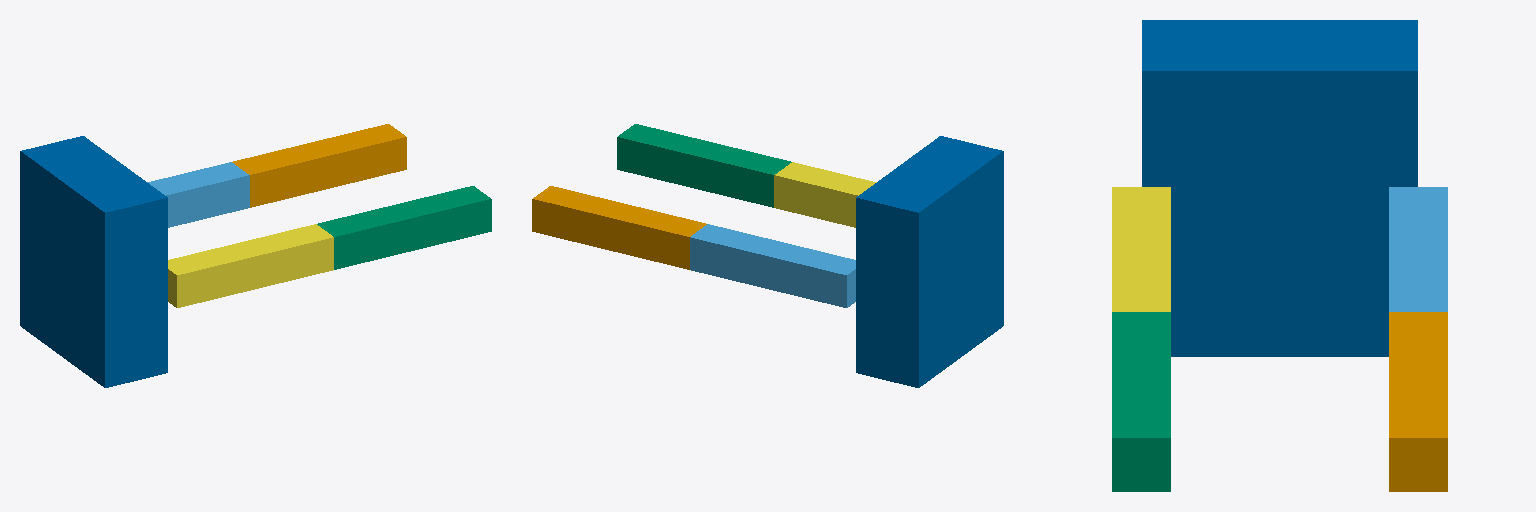
URDF robot description (arms):
<?xml version="1.0"?>
<robot name="arms">
	<link name = "left_forearm">
		<visual>
			<geometry>
				<box size="0.15  0.03  0.03"/>
			</geometry>
			<origin rpy="0 0 0" xyz="0.075 0 0"/>
		</visual>
	</link>
	<link name = "left_backarm">
		<visual>
			<geometry>
				<box size="0.15  0.03  0.03"/>
			</geometry>
			<origin rpy="0 0 0" xyz="0.075 0 0"/>
		</visual>
	</link>
	<link name = "right_forearm">
		<visual>
			<geometry>
				<box size="0.15  0.03  0.03"/>
			</geometry>
			<origin rpy="0 0 0" xyz="0.075  0  0"/>
		</visual>
	</link>
	<link name = "right_backarm">
		<visual>
			<geometry>
				<box size="0.15  0.03  0.03"/>
			</geometry>
			<origin rpy="0 0 0" xyz="0.075 0 0"/>
		</visual>
	</link>
	<link name = "base_link">
		<visual>
			<geometry>
				<box size="0.06  0.14  0.16"/>
			</geometry>
			<origin rpy="0 0 0" xyz="-0.03  0  0"/>
		</visual>
	</link>
	<joint name="right_shoulder" type="revolute">
		<axis xyz="0 0 1"/>
		<limit effort="1000.0" lower="-0.6" upper="0.6" velocity="0.5"/>
		<parent link="base_link"/>
		<child link="right_backarm"/>
		<origin xyz="0 -0.07 0"/>
	</joint>
	<joint name="left_shoulder" type="revolute">
		<axis xyz="0 0 1"/>
		<limit effort="1000.0" lower="-0.6" upper="0.6" velocity="0.5"/>
		<parent link="base_link"/>
		<child link="left_backarm"/>
		<origin xyz="0 0.07 0"/>
	</joint>
	<joint name="right_elbow" type="revolute">
		<axis xyz="0 0 1"/>
		<limit effort="1000.0" lower="-0.6" upper="0.6" velocity="0.5"/>
		<parent link="right_backarm"/>
		<child link="right_forearm"/>
		<origin xyz="0.15 0 0"/>
	</joint>
	<joint name="left_elbow" type="revolute">
		<axis xyz="0 0 1"/>
		<limit effort="1000.0" lower="-0.6" upper="0.6" velocity="0.5"/>
		<parent link="left_backarm"/>
		<child link="left_forearm"/>
		<origin xyz="0.15 0 0"/>
	</joint>
</robot>

--- What the picture shows (computed from the rendered views, not written in the file) ---
3 views of the same robot in one strip: view 1: azimuth 30°, elevation 25°; view 2: azimuth 150°, elevation 25°; view 3: azimuth 270°, elevation 25° (orthographic).
Model arms with 5 links and 4 joints (4 revolute), rooted at base_link, posed every joint at zero.
Links seen in each view (by area): view 1: base_link, right_backarm, right_forearm, left_forearm, left_backarm; view 2: base_link, left_backarm, left_forearm, right_forearm, right_backarm; view 3: base_link, left_forearm, right_forearm, left_backarm, right_backarm.
Link boxes in pixels (left/top/right/bottom): base_link: left=20, top=136, right=167, bottom=387; right_backarm: left=168, top=224, right=333, bottom=307; right_forearm: left=317, top=186, right=491, bottom=269; left_forearm: left=232, top=124, right=406, bottom=207; left_backarm: left=147, top=162, right=249, bottom=227; base_link: left=856, top=136, right=1003, bottom=387; left_backarm: left=690, top=224, right=855, bottom=307; left_forearm: left=532, top=186, right=706, bottom=269; right_forearm: left=617, top=124, right=791, bottom=207; right_backarm: left=774, top=162, right=876, bottom=227; base_link: left=1142, top=20, right=1417, bottom=356; left_forearm: left=1389, top=312, right=1447, bottom=491; right_forearm: left=1112, top=312, right=1170, bottom=491; left_backarm: left=1389, top=187, right=1447, bottom=311; right_backarm: left=1112, top=187, right=1170, bottom=311.
Bounding box of the posed robot: 0.36 × 0.17 × 0.16 m (x, y, z).
Geometry: primitives only (box / cylinder / sphere), no mesh files.